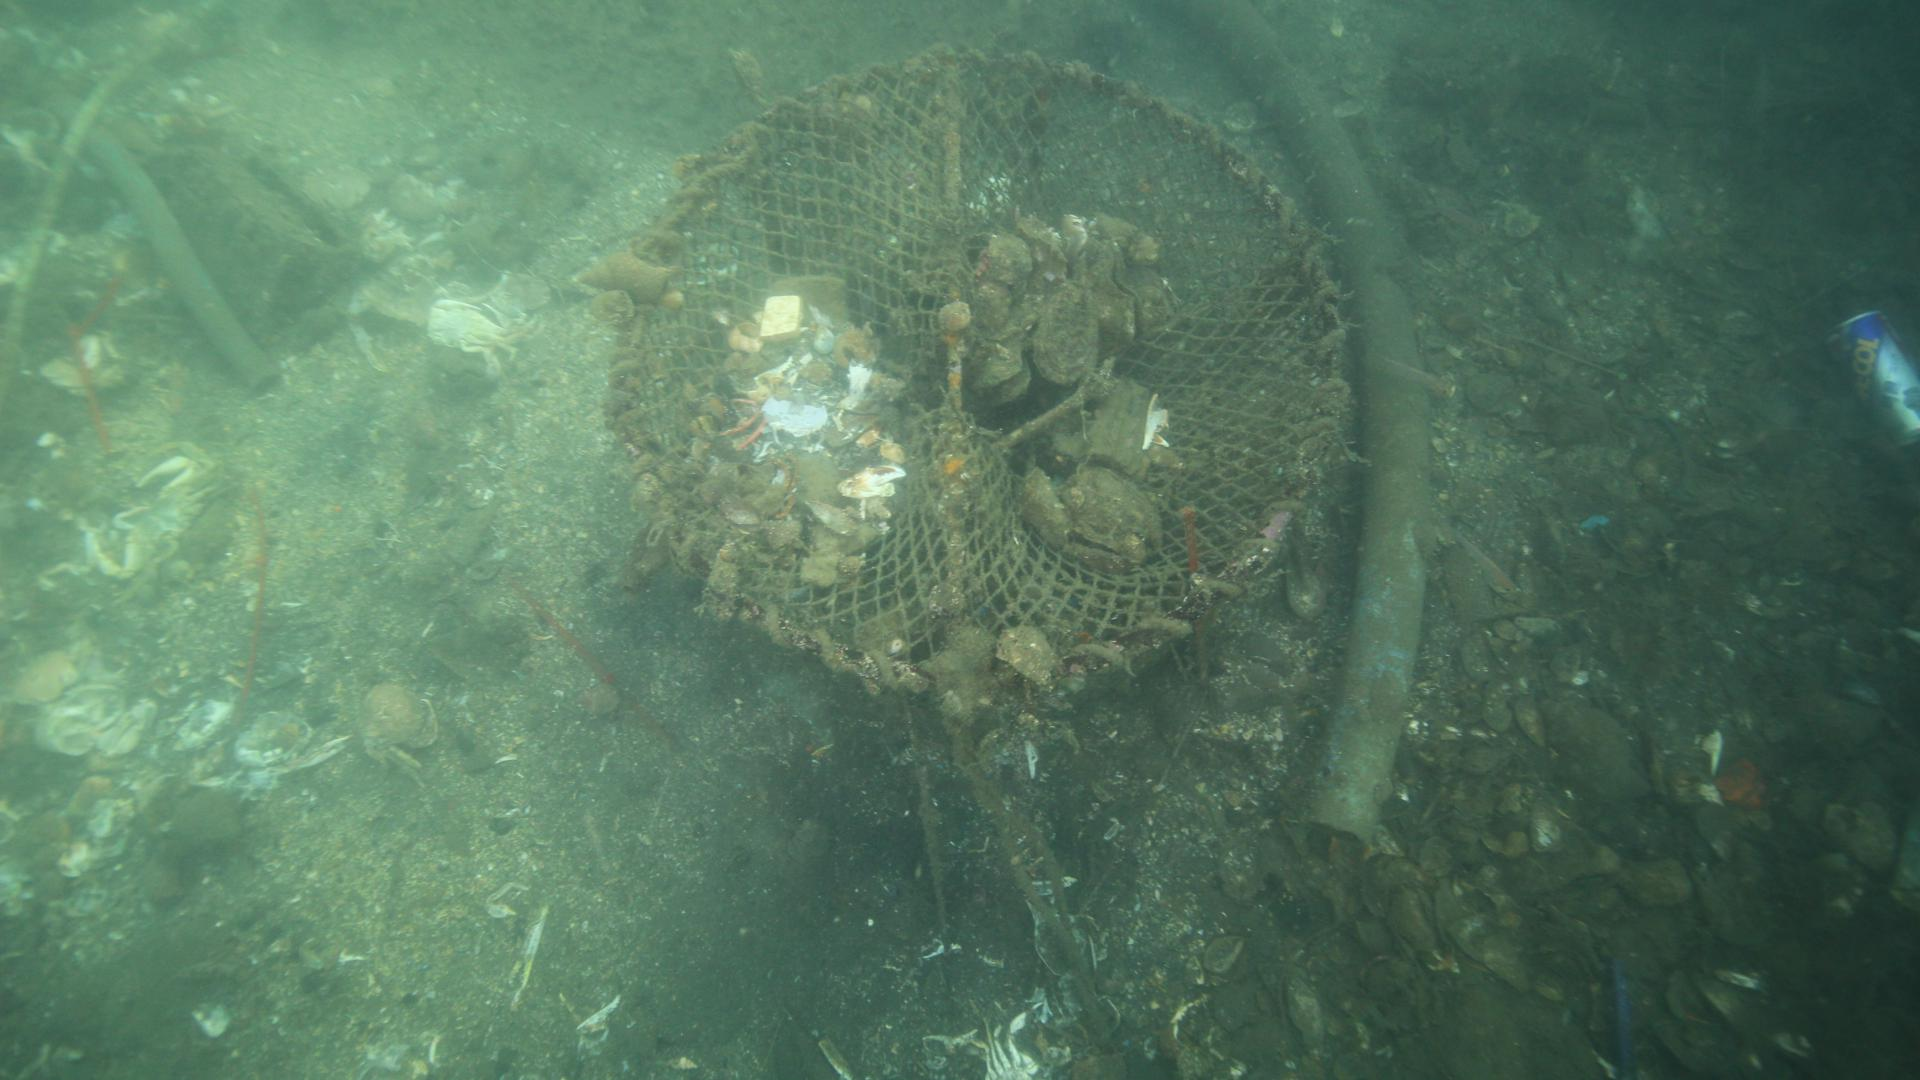circular fish trap: (597, 33, 1358, 717)
